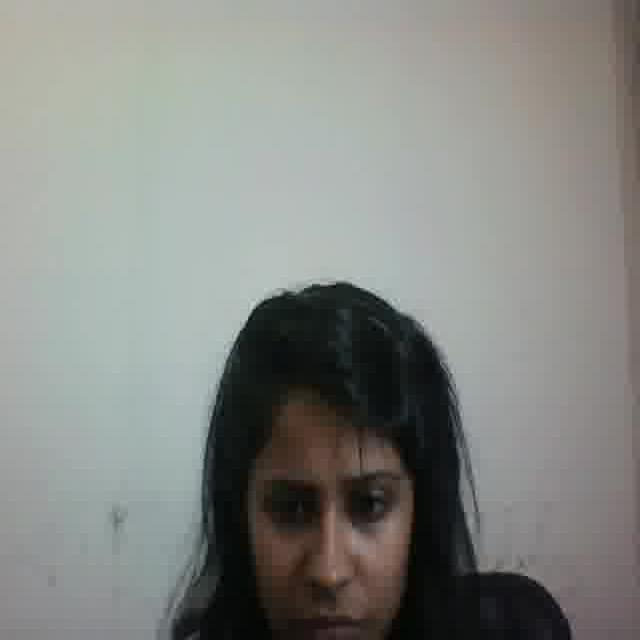Boredom: (242, 401, 407, 640)
